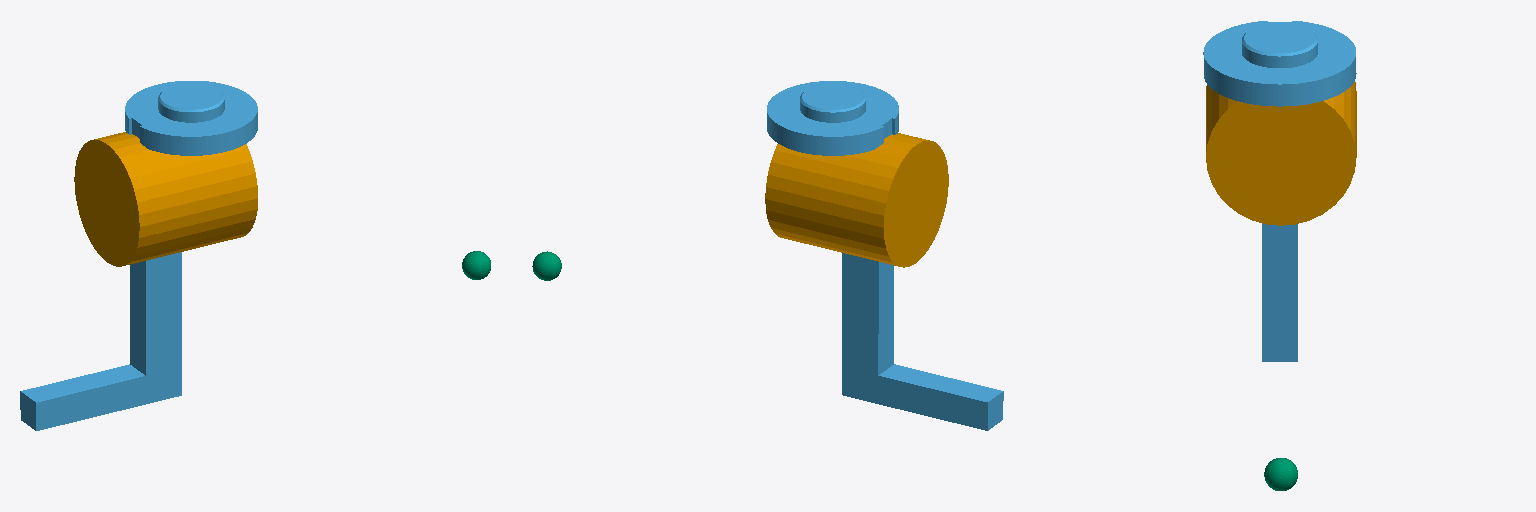
URDF robot description (hook_test):
<?xml version="1.0" ?>
<robot name="hook_test">
    <link name = 'base_link'/>
    <joint name='baselink2eebase' type='fixed'>
        <origin rpy="0 0 0" xyz="0 0 0"/>
        <parent link="base_link"/>
        <child link="ee_base"/>
    </joint>
    <link name="ee_base"/>
    <joint name="ee_x" type="prismatic">
        <origin rpy="0 0 0" xyz="0 0 0"/>
        <parent link="ee_base"/>
        <child link="ee_x_link"/>
        <axis xyz="1 0 0"/>
        <limit effort="500.0" lower="-0.5" upper="1.0" velocity="2.0"/>
    </joint>
    <link name = 'ee_x_link'/>
    <joint name="ee_y" type="prismatic">
        <origin rpy="0 0 0" xyz="0 0 0"/>
        <parent link="ee_x_link"/>
        <child link="ee_y_link"/>
        <axis xyz="0 1 0"/>
        <limit effort="500.0" lower="-0.2" upper="0.2" velocity="2.0"/>
    </joint>
    <link name = 'ee_y_link'/>
    <joint name="ee_z" type="prismatic">
        <origin rpy="0 0 0" xyz="0 0 0"/>
        <parent link="ee_y_link"/>
        <child link="ee_z_link"/>
        <axis xyz="0 0 1"/>
        <limit effort="500.0" lower="-0.3" upper="0.3" velocity="2.0"/>
    </joint>
    <link name = 'ee_z_link'/>
    <joint name="ee_rx" type="revolute">
        <origin rpy="0 0 0" xyz="0 0 0"/>
        <parent link="ee_z_link"/>
        <child link="ee_rx_link"/>
        <axis xyz="1 0 0"/>
        <limit effort="10.0" lower="-0.1" upper="0.1" velocity="2.0"/>
    </joint>
    <link name = 'ee_rx_link'/>
    <joint name="ee_ry" type="revolute">
        <origin rpy="0 0 0" xyz="0 0 0"/>
        <parent link="ee_rx_link"/>
        <child link="ee_ry_link"/>
        <axis xyz="0 1 0"/>
        <limit effort="10.0" lower="-0.1" upper="0.1" velocity="2.0"/>
    </joint>
    <link name = 'ee_ry_link'/>
    <joint name="ee_rz" type="revolute">
        <origin rpy="0 0 0" xyz="0 0 0"/>
        <parent link="ee_ry_link"/>
        <child link="ee_rz_link"/>
        <axis xyz="0 0 1"/>
        <limit effort="10.0" lower="-0.1" upper="0.1" velocity="2.0"/>
    </joint>
    <link name="ee_rz_link"/>
    <joint name="ee2hand_joint" type="fixed">
        <origin rpy="0 1.57 0" xyz="0 0 0"/>
        <parent link="ee_rz_link"/>
        <child link="hand_base"/>
    </joint>
    <link name="hand_base">
        <visual>
            <geometry>
                <cylinder length="0.065" radius="0.031"/>
            </geometry>
        </visual>
        <collision>
            <geometry>
                <cylinder length="0.065" radius="0.031"/>
            </geometry>
        </collision>
    </link>
    <joint name="hand2hook" type="fixed">
        <origin rpy="-1.57 0 -1.57" xyz="-0.029 0.031 0.045"/>
        <parent link="hand_base"/>
        <child link="hook"/>
    </joint>
    <link name="hook">
        <visual>
            <geometry>
                <mesh filename="./meshes/ur3/collision/hook4door_v3.obj"/>
            </geometry>
        </visual>
        <collision>
            <geometry>
                <mesh filename="./meshes/ur3/visual/hook4door_v3.obj"/>
            </geometry>
            <origin rpy="1.57 0 0" xyz="0 0 0"/>
        </collision>
    </link>
    <joint name='hook_finger' type='fixed'>
        <origin rpy="0 0 0" xyz="0.08 0 0.17"/>
        <parent link='hand_base'/>
        <child link='hook_finger'/>
    </joint >
    <link name='hook_finger'>
        <visual>
            <geometry>
                <sphere radius='0.007'/>
            </geometry>
        </visual>
    </link>
</robot>
    

--- Facts derived from the render (not from the file) ---
Views: 3 orthographic renders of the robot side by side, from view 1: azimuth 30°, elevation 25°; view 2: azimuth 150°, elevation 25°; view 3: azimuth 270°, elevation 25°.
Robot: hook_test — 11 links, 10 joints (3 revolute, 3 prismatic, 4 fixed); root link base_link; default pose: all joints at 0.
Visible links, largest first — view 1: hook, hand_base, hook_finger; view 2: hook, hand_base, hook_finger; view 3: hand_base, hook, hook_finger.
Link boxes in pixels (x1,y1,x2,y2): hook: [20, 81, 257, 430]; hand_base: [74, 132, 257, 266]; hook_finger: [462, 251, 490, 279]; hook: [767, 81, 1003, 430]; hand_base: [765, 133, 948, 267]; hook_finger: [532, 251, 561, 280]; hand_base: [1206, 82, 1356, 225]; hook: [1203, 21, 1356, 361]; hook_finger: [1264, 458, 1297, 490].
Size in the robot's own frame: 0.2529 by 0.063 by 0.1516 metres.
1 mesh visuals loaded from 1 distinct referenced files (1 OBJ).